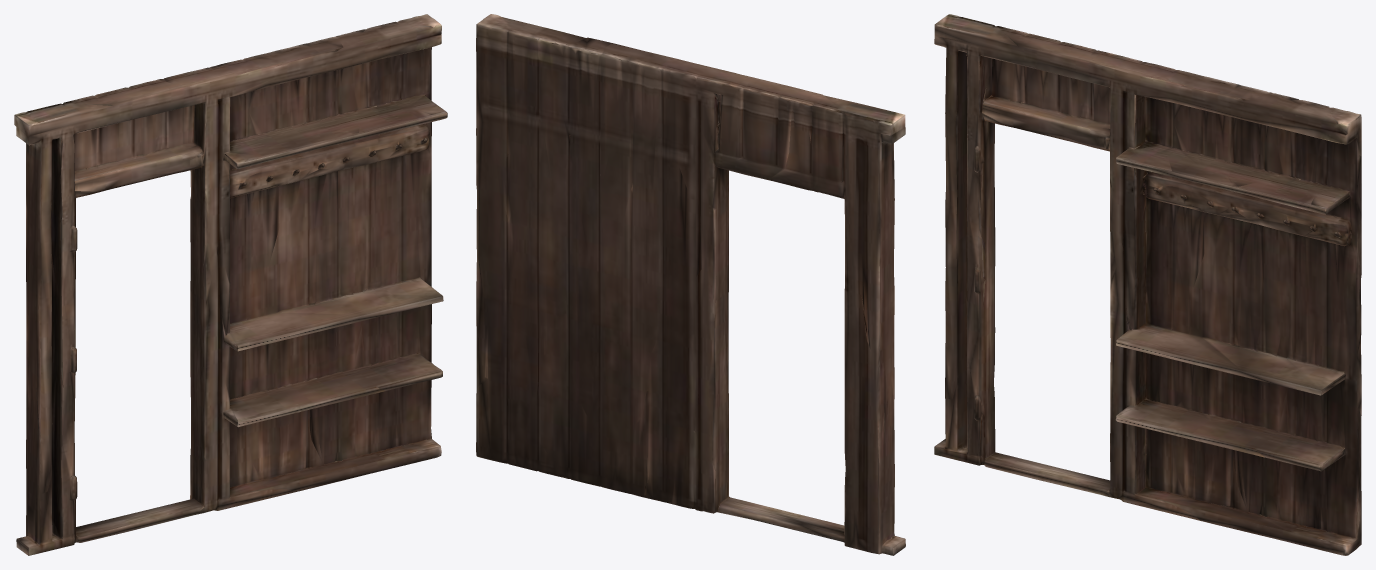
Rendered from int-partition-board-a.glb.
3 views of the same model, side by side, from view 1: azimuth 30°, elevation 25°; view 2: azimuth 150°, elevation 25°; view 3: azimuth 330°, elevation 25° (orthographic).
Parts seen in each view (by area): view 1: Mesh_0; view 2: Mesh_0; view 3: Mesh_0.
Boxes of the visible parts, x1,y1,x2,y2 form: Mesh_0: [14, 14, 447, 555]; Mesh_0: [476, 14, 905, 555]; Mesh_0: [934, 14, 1361, 555].
Size of the model in its own units: 1.9 by 1.9 by 0.2287.
Materials: 1 (1 with a texture image).
